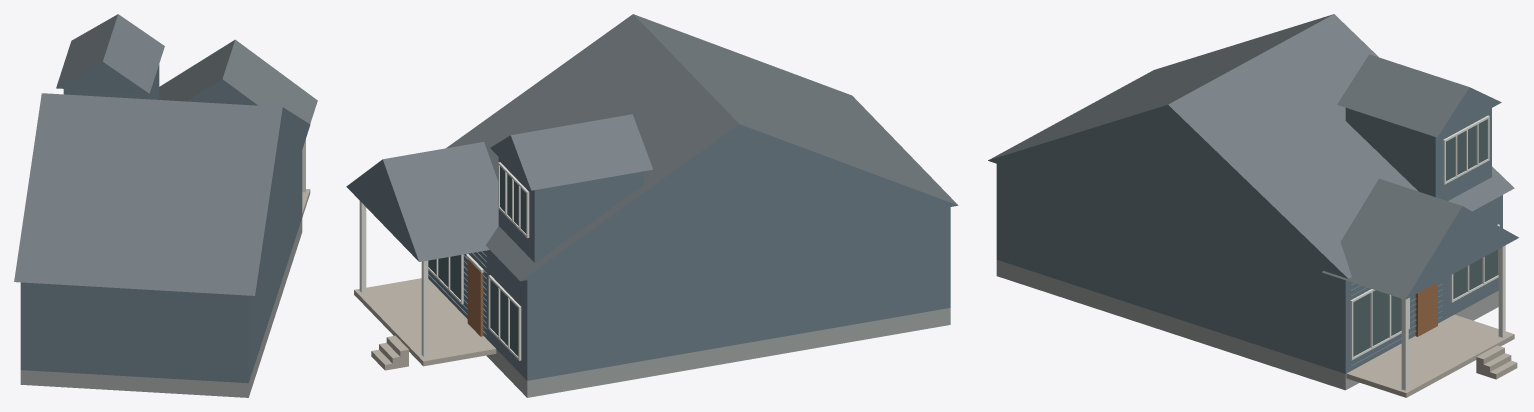
Rendered from merner-42-peter-20261008-study.glb.
3 views of the same model, side by side, from view 1: azimuth 30°, elevation 25°; view 2: azimuth 150°, elevation 25°; view 3: azimuth 270°, elevation 25° (orthographic). The views are drawn at different scales.
Parts seen in each view (by area): view 1: 42-peter-roof.001, 42-peter-wall.001, 42-peter-foundation.001; view 2: 42-peter-roof.001, 42-peter-wall.001, 42-peter-foundation.001, 42-peter-deck.001, 42-peter-trim.001, 42-peter-glass.001, 42-peter-door.001; view 3: 42-peter-roof.001, 42-peter-wall.001, 42-peter-deck.001, 42-peter-foundation.001, 42-peter-glass.001, 42-peter-trim.001, 42-peter-door.001.
Part boxes in pixels (x1,y1,x2,y2): 42-peter-roof.001: (14, 14, 317, 295); 42-peter-wall.001: (20, 64, 302, 383); 42-peter-foundation.001: (20, 218, 302, 397); 42-peter-roof.001: (346, 14, 958, 281); 42-peter-wall.001: (428, 157, 950, 380); 42-peter-foundation.001: (486, 308, 950, 397); 42-peter-deck.001: (354, 278, 496, 370); 42-peter-trim.001: (359, 162, 529, 360); 42-peter-glass.001: (428, 166, 526, 356); 42-peter-door.001: (467, 259, 483, 336); 42-peter-roof.001: (988, 14, 1518, 299); 42-peter-wall.001: (996, 108, 1502, 373); 42-peter-deck.001: (1346, 314, 1517, 397); 42-peter-foundation.001: (996, 260, 1498, 390); 42-peter-glass.001: (1353, 119, 1497, 356); 42-peter-trim.001: (1350, 115, 1505, 390); 42-peter-door.001: (1415, 282, 1437, 336).
Bounding box in the file's own units: 16.27 × 7.8 × 16.12.
